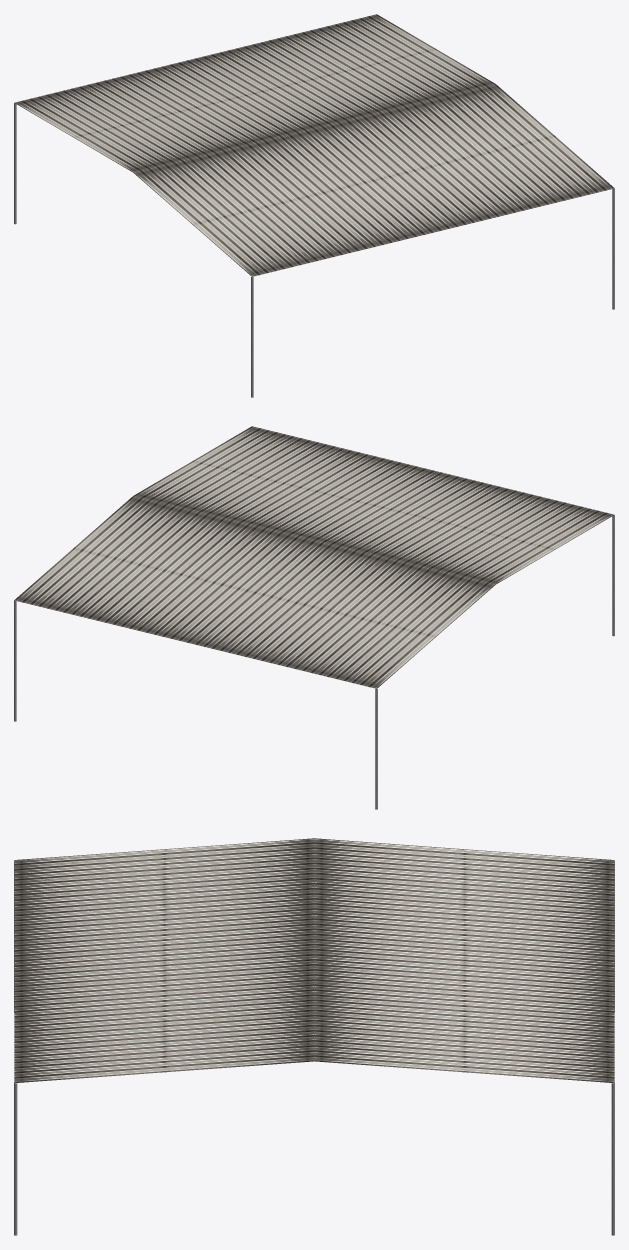
Rendered from KibuiShed_LOD0.gltf.
The picture shows the model from 3 angles, top to bottom: view 1: azimuth 30°, elevation 25°; view 2: azimuth 150°, elevation 25°; view 3: azimuth 270°, elevation 25°; orthographic projection. The views are drawn at different scales.
Parts seen in each view (by area): view 1: node1, node2; view 2: node1, node2; view 3: node1, node2.
Part boxes in pixels (<box>): node1: <box>14,14,614,276</box>; node2: <box>14,103,614,397</box>; node1: <box>14,426,614,688</box>; node2: <box>14,515,614,809</box>; node1: <box>14,838,614,1083</box>; node2: <box>14,861,614,1235</box>.
Bounding box in the file's own units: 22.04 × 8 × 25.04.
